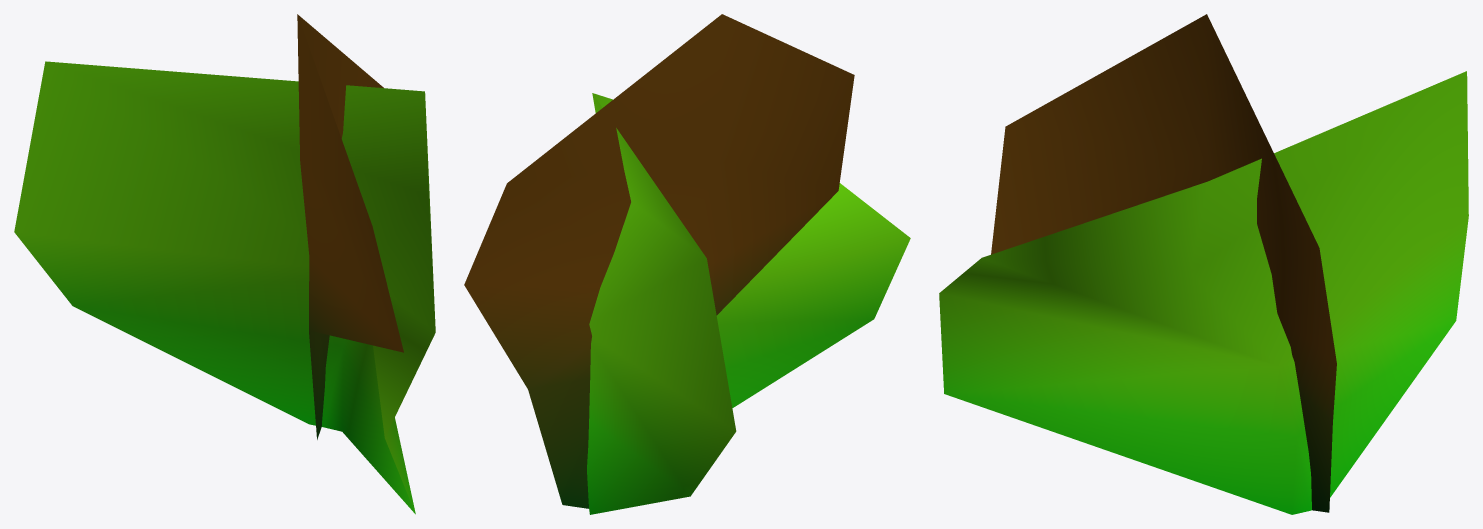
Rendered from Var1Hi49.fbx.
The picture shows the model from 3 angles, left to right: view 1: azimuth 30°, elevation 25°; view 2: azimuth 150°, elevation 25°; view 3: azimuth 270°, elevation 25°; orthographic projection. The views are drawn at different scales.
Visible parts, largest first — view 1: bend1; view 2: bend1; view 3: bend1.
Part boxes in pixels (left/top/right/bottom): bend1: left=14, top=14, right=435, bottom=514; bend1: left=464, top=14, right=910, bottom=514; bend1: left=939, top=14, right=1468, bottom=514.
Bounding box in the file's own units: 1.03 × 1.38 × 1.43.
